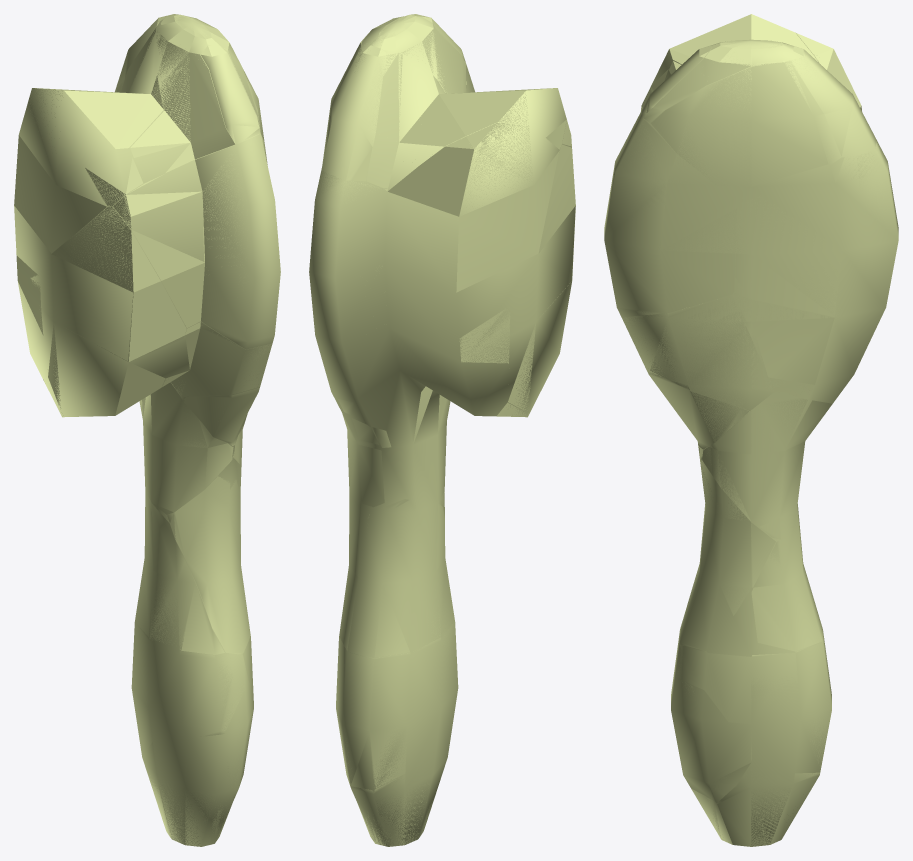
Rendered from P_BrosseACheuveux.fbx.
3 views of the same model, side by side, from view 1: azimuth 30°, elevation 25°; view 2: azimuth 150°, elevation 25°; view 3: azimuth 270°, elevation 25° (orthographic).
Visible parts, largest first — view 1: P_BrosseACheveux, P_BrosseACheveux_cell.008, P_BrosseACheveux_cell.009, P_BrosseACheveux_cell.013, P_BrosseACheveux_cell.018, P_BrosseACheveux_cell.003, P_BrosseACheveux_cell.010, P_BrosseACheveux_cell.006, P_BrosseACheveux_cell.007, P_BrosseACheveux_cell.014, P_BrosseACheveux_cell.015, P_BrosseACheveux_cell.011 (+4 smaller); view 2: P_BrosseACheveux, P_BrosseACheveux_cell.006, P_BrosseACheveux_cell.010, P_BrosseACheveux_cell.011, P_BrosseACheveux_cell.015, P_BrosseACheveux_cell.009, P_BrosseACheveux_cell.003, P_BrosseACheveux_cell.018, P_BrosseACheveux_cell.005, P_BrosseACheveux_cell.017, P_BrosseACheveux_cell.004, P_BrosseACheveux_cell.014 (+1 smaller); view 3: P_BrosseACheveux, P_BrosseACheveux_cell.008, P_BrosseACheveux_cell, P_BrosseACheveux_cell.007, P_BrosseACheveux_cell.013, P_BrosseACheveux_cell.011, P_BrosseACheveux_cell.005, P_BrosseACheveux_cell.017, P_BrosseACheveux_cell.019, P_BrosseACheveux_cell.015, P_BrosseACheveux_cell.003, P_BrosseACheveux_cell.018 (+7 smaller).
Boxes of the visible parts, x1,y1,x2,y2 form: P_BrosseACheveux: (14,14,271,846); P_BrosseACheveux_cell.008: (113,134,280,349); P_BrosseACheveux_cell.009: (48,206,186,415); P_BrosseACheveux_cell.013: (167,476,250,654); P_BrosseACheveux_cell.018: (130,14,260,172); P_BrosseACheveux_cell.003: (139,493,224,654); P_BrosseACheveux_cell.010: (47,21,163,206); P_BrosseACheveux_cell.006: (14,88,106,253); P_BrosseACheveux_cell.007: (162,322,272,396); P_BrosseACheveux_cell.014: (43,379,234,514); P_BrosseACheveux_cell.015: (142,742,232,846); P_BrosseACheveux_cell.011: (136,623,252,736); P_BrosseACheveux: (309,16,575,846); P_BrosseACheveux_cell.006: (384,122,559,292); P_BrosseACheveux_cell.010: (366,52,566,188); P_BrosseACheveux_cell.011: (339,621,457,788); P_BrosseACheveux_cell.015: (345,752,433,846); P_BrosseACheveux_cell.009: (508,144,575,410); P_BrosseACheveux_cell.003: (339,499,453,657); P_BrosseACheveux_cell.018: (364,14,466,93); P_BrosseACheveux_cell.005: (338,308,510,421); P_BrosseACheveux_cell.017: (343,415,391,507); P_BrosseACheveux_cell.004: (325,45,386,181); P_BrosseACheveux_cell.014: (413,386,529,500); P_BrosseACheveux: (604,33,898,846); P_BrosseACheveux_cell.008: (604,87,737,316); P_BrosseACheveux_cell: (650,60,828,200); P_BrosseACheveux_cell.007: (622,295,773,410); P_BrosseACheveux_cell.013: (679,461,775,650); P_BrosseACheveux_cell.011: (671,633,831,770); P_BrosseACheveux_cell.005: (734,293,834,390); P_BrosseACheveux_cell.017: (702,392,832,539); P_BrosseACheveux_cell.019: (735,157,858,316); P_BrosseACheveux_cell.015: (706,772,819,846); P_BrosseACheveux_cell.003: (681,504,822,651); P_BrosseACheveux_cell.018: (642,39,791,122).
Bounding box in the file's own units: 90.97 × 383 × 127.
